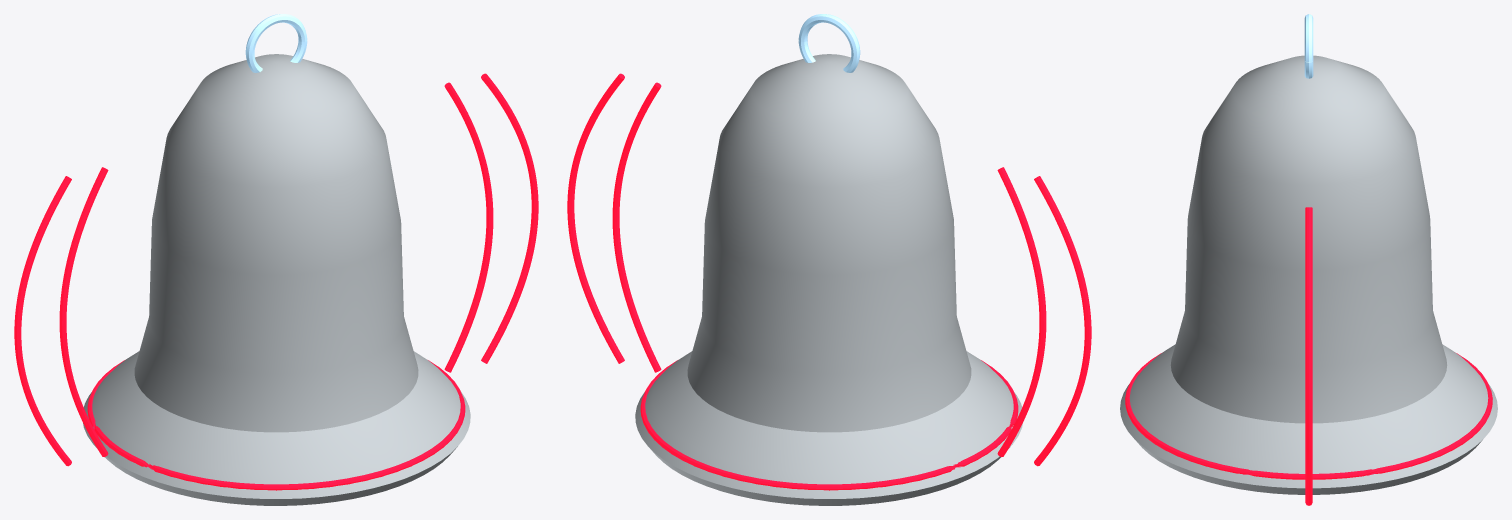
Rendered from 40-alert.glb.
The picture shows the model from 3 angles, left to right: view 1: azimuth 30°, elevation 25°; view 2: azimuth 150°, elevation 25°; view 3: azimuth 270°, elevation 25°; orthographic projection. The views are drawn at different scales.
Visible parts, largest first — view 1: BC thin clear technical glass, BC ruby signal edge, BC cool glass edge; view 2: BC thin clear technical glass, BC ruby signal edge, BC cool glass edge; view 3: BC thin clear technical glass, BC ruby signal edge, BC cool glass edge.
Part boxes in pixels (left/top/right/bottom): BC thin clear technical glass: left=83, top=54, right=470, bottom=505; BC ruby signal edge: left=14, top=73, right=538, bottom=490; BC cool glass edge: left=245, top=14, right=307, bottom=72; BC thin clear technical glass: left=635, top=54, right=1022, bottom=505; BC ruby signal edge: left=567, top=73, right=1091, bottom=490; BC cool glass edge: left=798, top=14, right=860, bottom=72; BC thin clear technical glass: left=1120, top=55, right=1497, bottom=494; BC ruby signal edge: left=1125, top=207, right=1492, bottom=505; BC cool glass edge: left=1304, top=14, right=1313, bottom=78.
Bounding box in the file's own units: 2.08 × 1.76 × 1.34.
